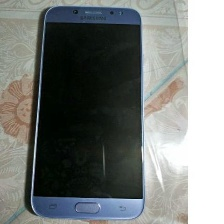phone: (27, 1, 148, 222)
